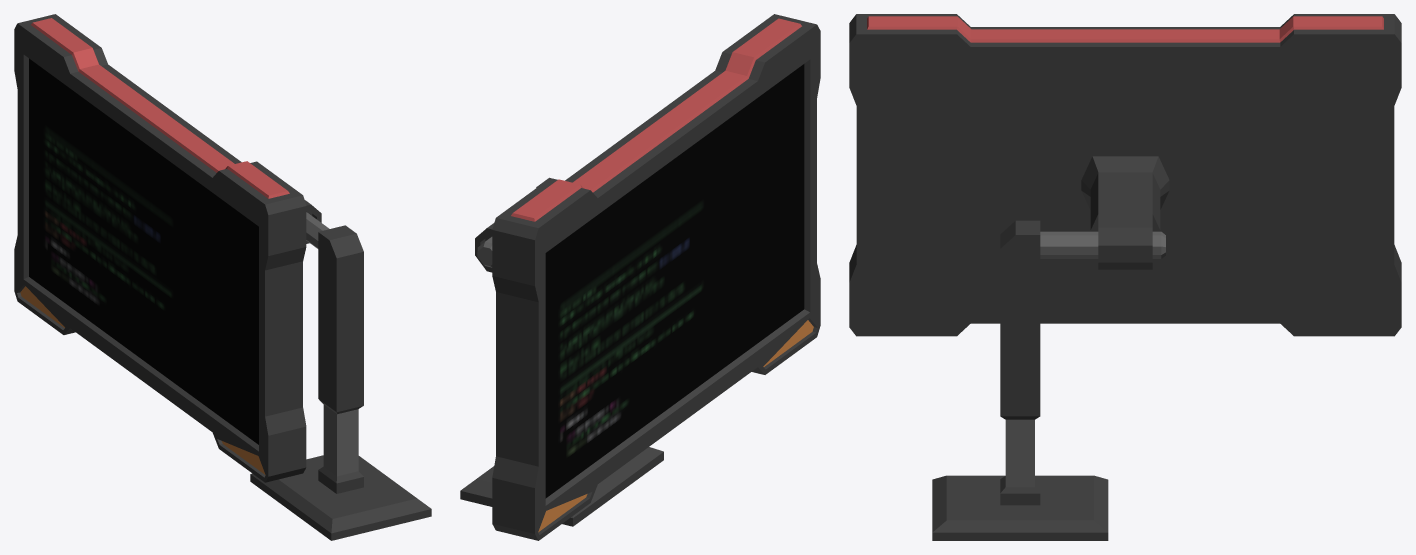
The model's file is Monitor_01_D.FBX.
3 views of the same model, side by side, from view 1: azimuth 30°, elevation 25°; view 2: azimuth 150°, elevation 25°; view 3: azimuth 270°, elevation 25° (orthographic). The views are drawn at different scales.
Visible parts, largest first — view 1: Monitor_01_D_LOD0, Monitor_01_Support_LOD0; view 2: Monitor_01_D_LOD0, Monitor_01_Support_LOD0; view 3: Monitor_01_D_LOD0, Monitor_01_Support_LOD0.
Part boxes in pixels (bbox=[...]): Monitor_01_D_LOD0: bbox=[14, 14, 321, 482]; Monitor_01_Support_LOD0: bbox=[250, 212, 431, 540]; Monitor_01_D_LOD0: bbox=[475, 14, 820, 540]; Monitor_01_Support_LOD0: bbox=[460, 177, 663, 526]; Monitor_01_D_LOD0: bbox=[849, 14, 1401, 336]; Monitor_01_Support_LOD0: bbox=[932, 220, 1165, 540].
Size of what is drawn, in the model's own units: 16.38 by 30.22 by 35.77.
